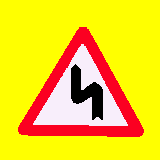Double_bend_left: (17, 27, 146, 137)
